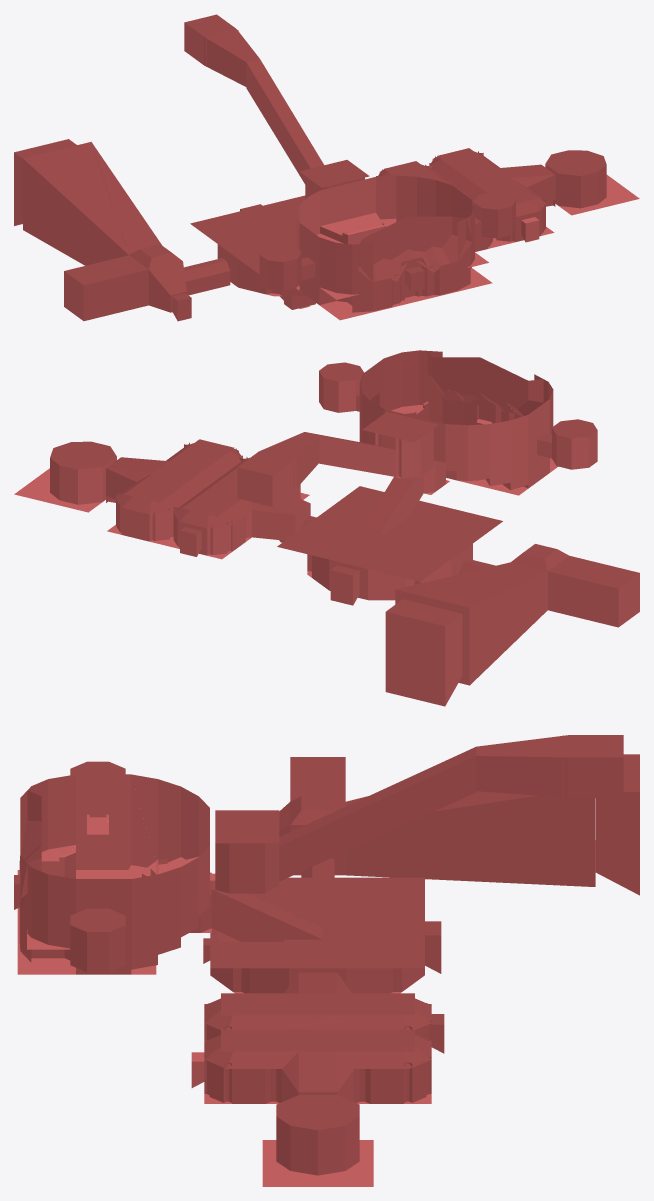
The model's file is col_castle_2f.glb.
3 views of the same model, one above another, from view 1: azimuth 30°, elevation 25°; view 2: azimuth 150°, elevation 25°; view 3: azimuth 270°, elevation 25° (orthographic). The views are drawn at different scales.
Visible parts, largest first — view 1: castle_2f_col; view 2: castle_2f_col; view 3: castle_2f_col.
Part boxes in pixels (box(x1,y1,x2,y2)): castle_2f_col: box(14, 14, 639, 321); castle_2f_col: box(14, 350, 639, 706); castle_2f_col: box(14, 735, 639, 1186).
Size of the model in its own units: 15.96 by 5.2 by 11.28.
